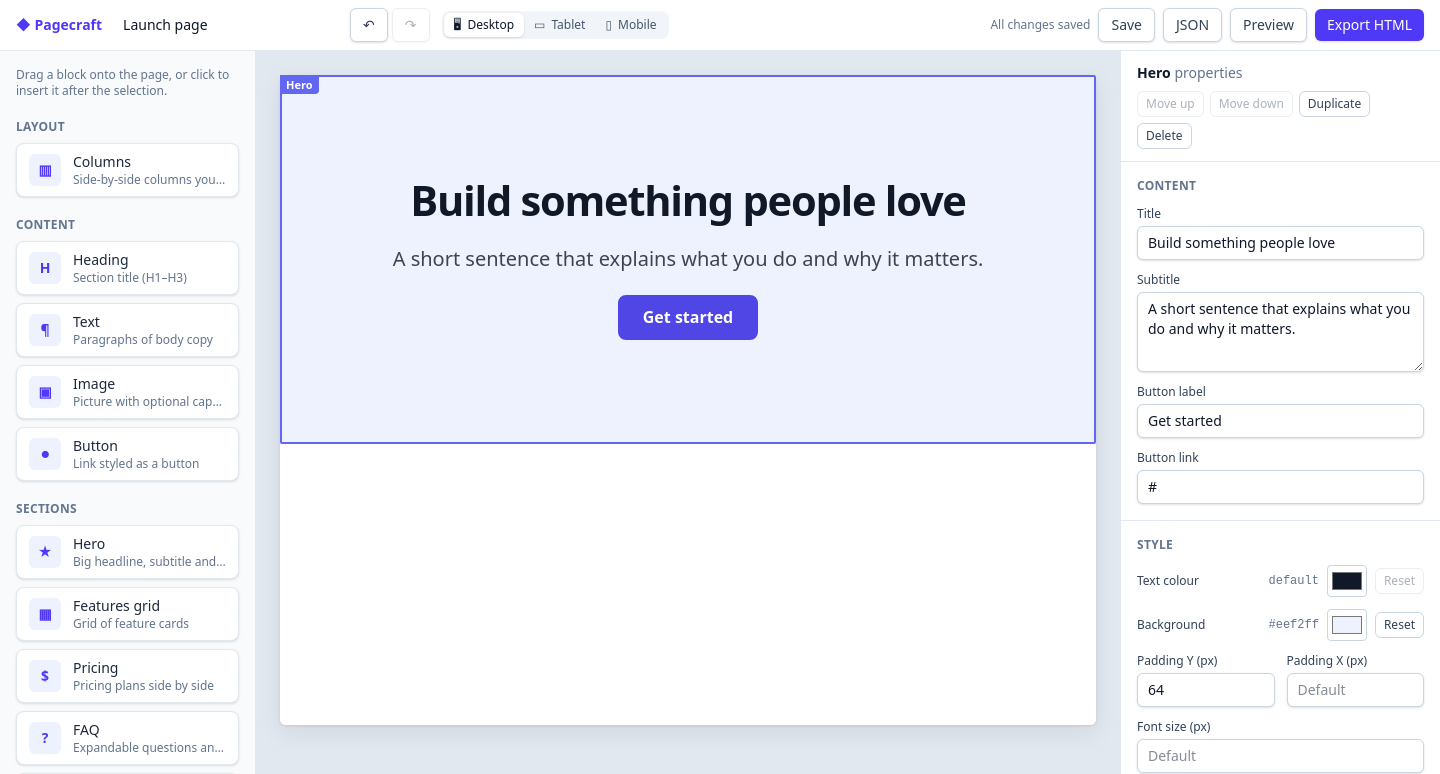
Test: EditorShell › undoes and redoes from the toolbar and disables buttons at the ends
The width and height of the screenshot is (1440, 774).
Later steps or results of the test are not shown.
Expected: the button named "Redo" is disabled, [392,8,430,42]
Click the button named "Undo". click: click(369, 25)
box: [350,8,388,42]
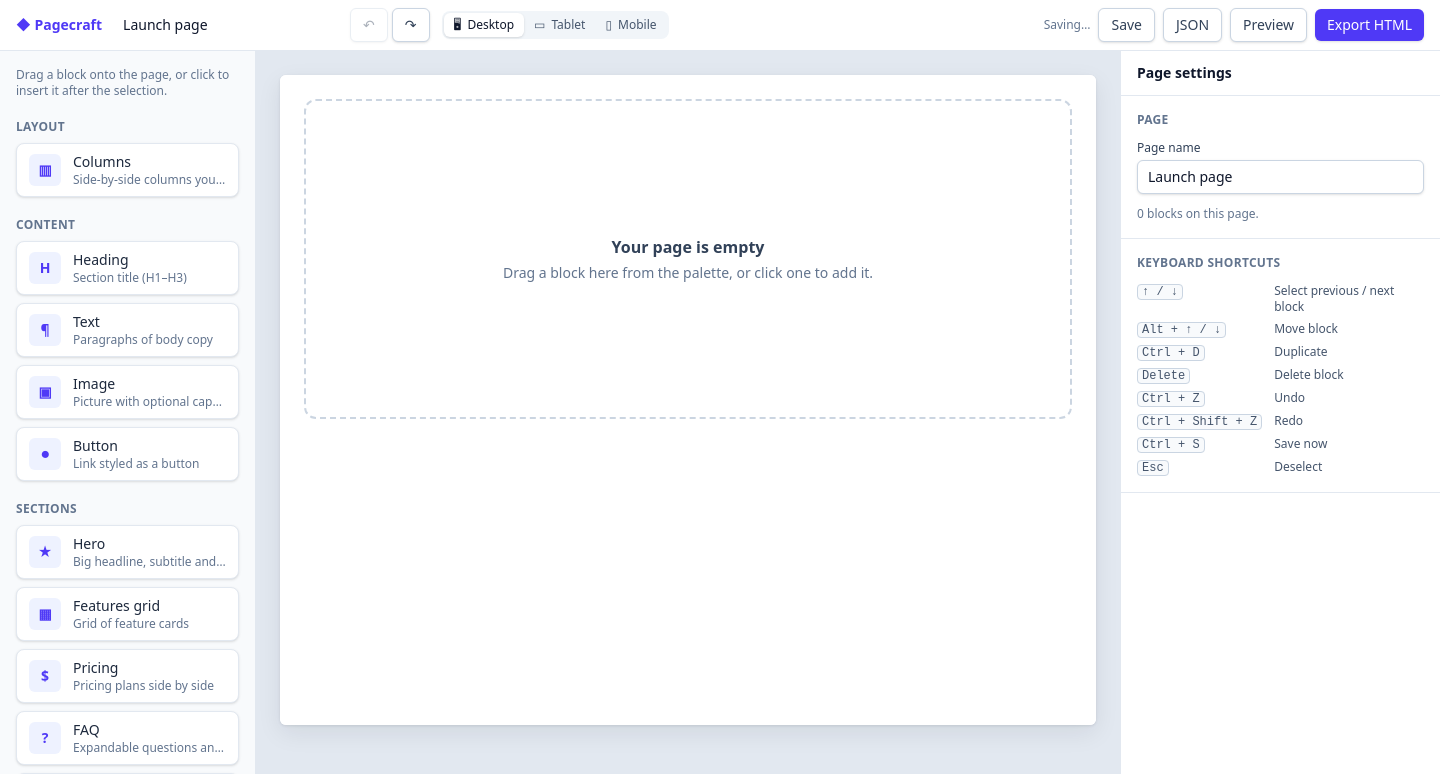
Expected: the button named "Undo" is disabled, [350,8,388,42]
